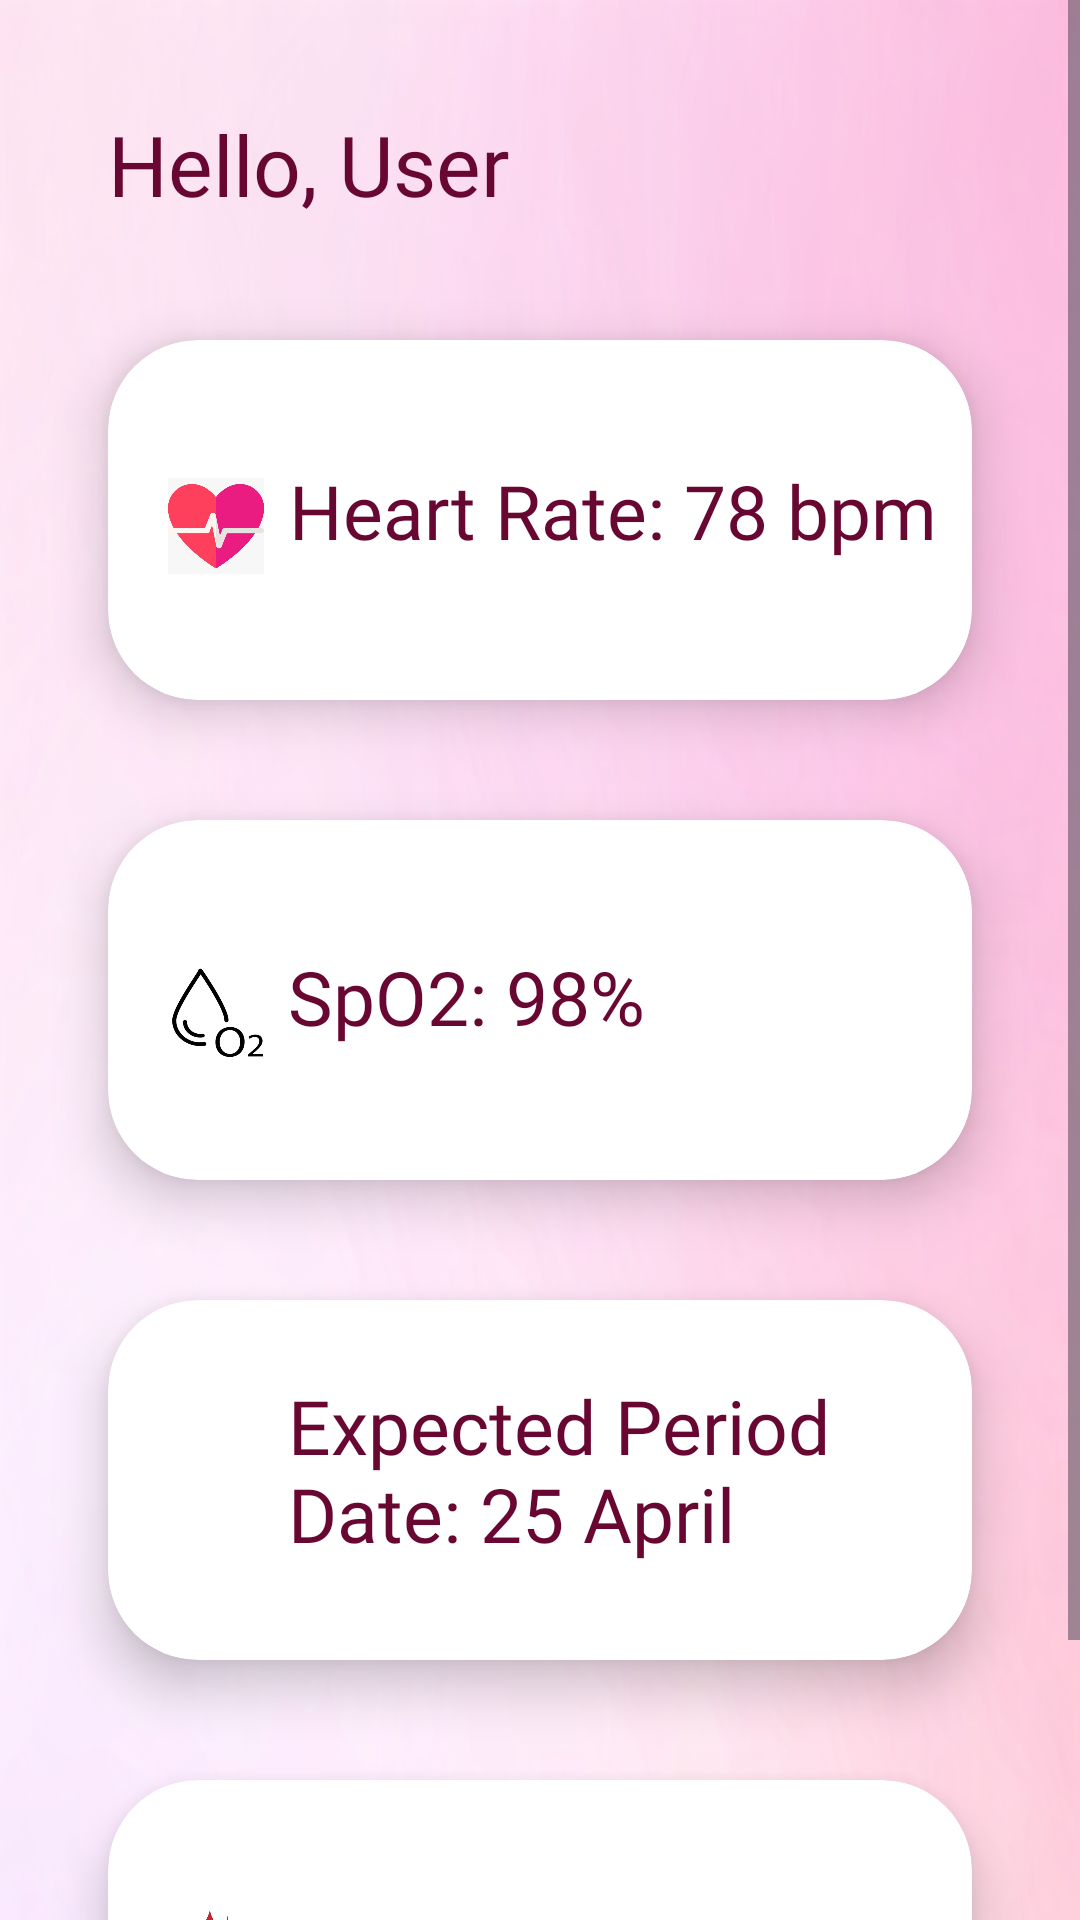

Screen size 1080x1920. Icon name, then its center in pixels as (x,y):
spo: (217,1012)
